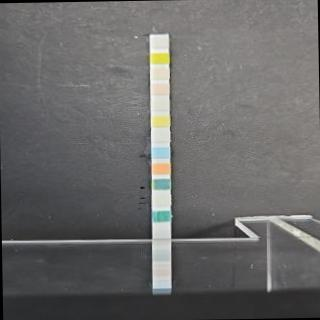mark: (151, 194, 170, 206), (151, 177, 170, 189), (151, 82, 168, 95), (151, 162, 169, 174), (150, 67, 168, 79), (150, 52, 168, 64), (150, 36, 168, 48), (152, 210, 169, 222), (151, 98, 168, 110), (151, 146, 169, 157), (152, 115, 170, 126), (151, 131, 168, 142)
